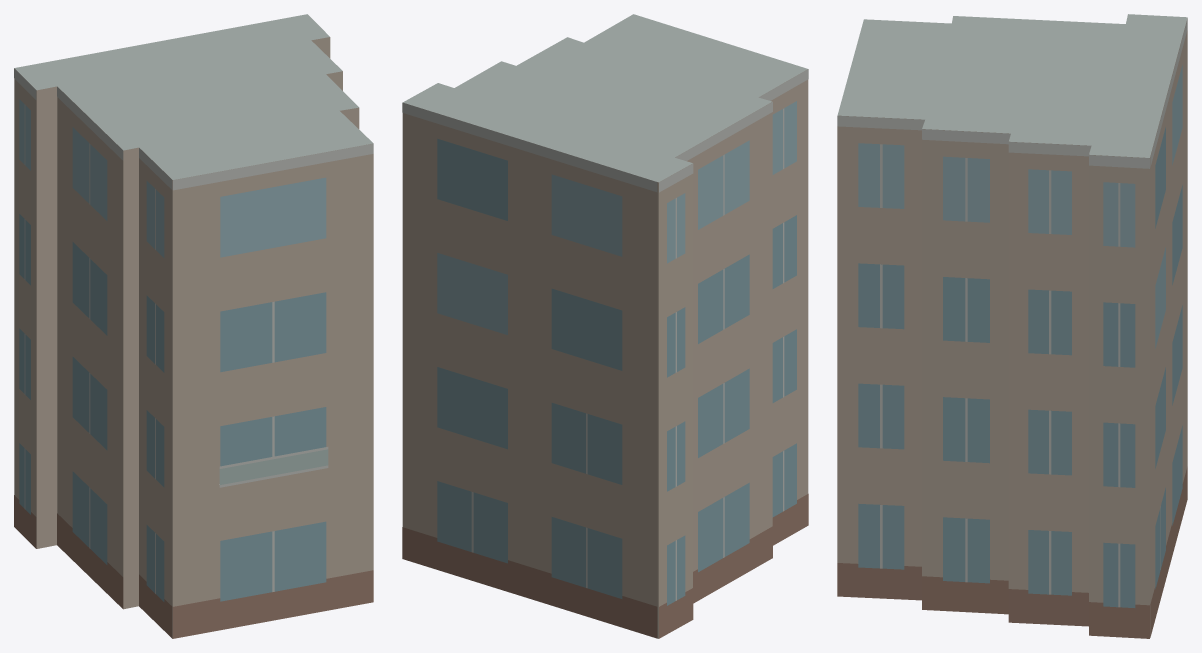
File: survey-upis-32619590.glb
3 renders of one model, left to right at view 1: azimuth 30°, elevation 25°; view 2: azimuth 150°, elevation 25°; view 3: azimuth 270°, elevation 25°, orthographic. The views are drawn at different scales.
Parts seen in each view (by area): view 1: survey-upis-32619590.tmp; view 2: survey-upis-32619590.tmp; view 3: survey-upis-32619590.tmp.
Boxes of the visible parts, x1,y1,x2,y2 form: survey-upis-32619590.tmp: (14, 14, 373, 638); survey-upis-32619590.tmp: (402, 14, 808, 638); survey-upis-32619590.tmp: (837, 14, 1187, 638).
Bounding box in the file's own units: 6.95 × 10.8 × 7.14.
